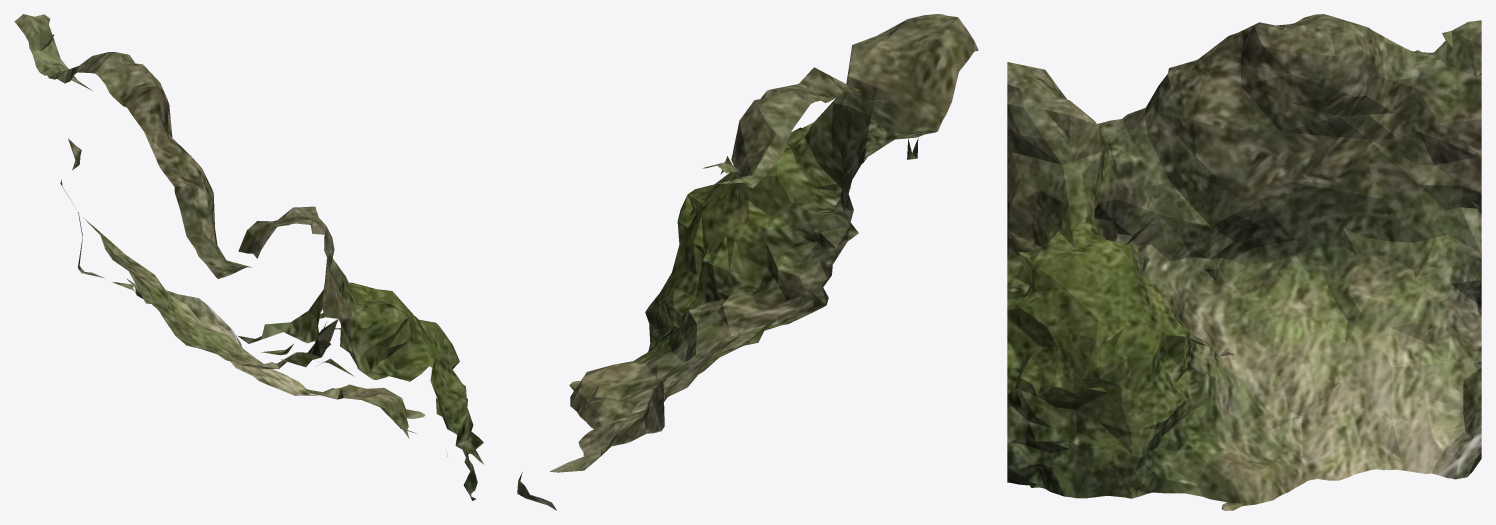
The picture shows the model from 3 angles, left to right: view 1: azimuth 30°, elevation 25°; view 2: azimuth 150°, elevation 25°; view 3: azimuth 270°, elevation 25°; orthographic projection. The views are drawn at different scales.
Bounding box in the file's own units: 1.96 × 2.54 × 2.95.
3 materials, 3 textured.
